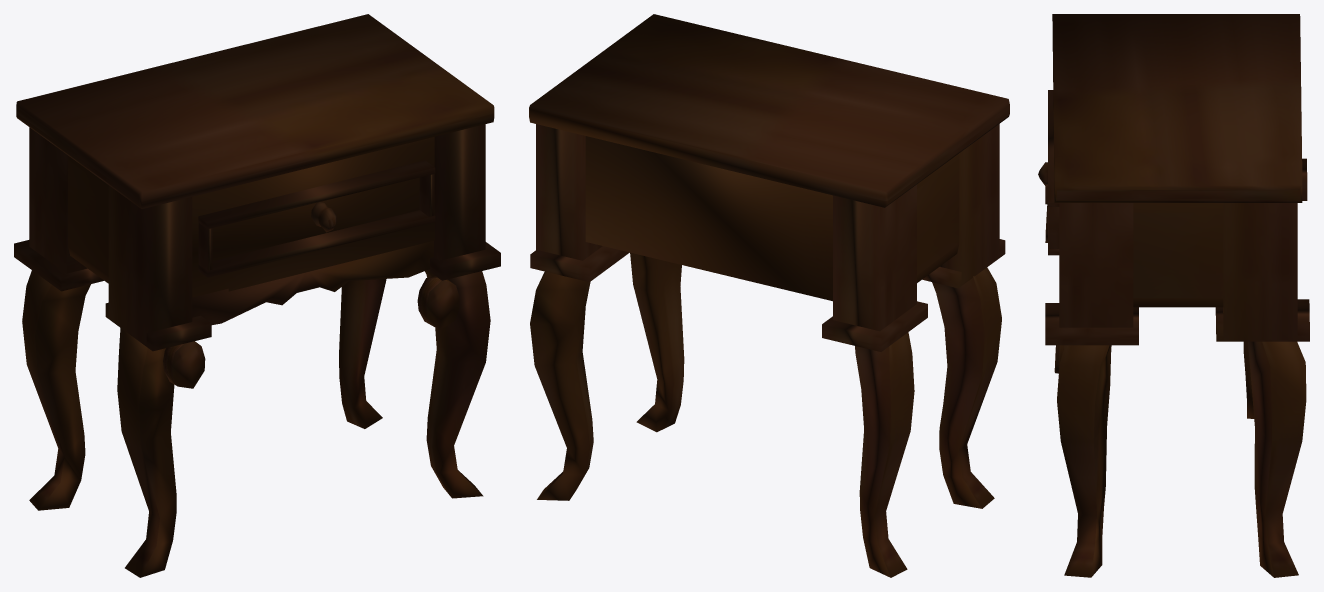
File: NightTableWatlas.fbx
3 views of the same model, side by side, from view 1: azimuth 30°, elevation 25°; view 2: azimuth 150°, elevation 25°; view 3: azimuth 270°, elevation 25° (orthographic).
Visible parts, largest first — view 1: pasted__pasted__pasted__pasted__pCube5; view 2: pasted__pasted__pasted__pasted__pCube5; view 3: pasted__pasted__pasted__pasted__pCube5.
Boxes of the visible parts, x1,y1,x2,y2 form: pasted__pasted__pasted__pasted__pCube5: [14, 14, 500, 577]; pasted__pasted__pasted__pasted__pCube5: [529, 14, 1009, 577]; pasted__pasted__pasted__pasted__pCube5: [1038, 14, 1309, 577].
Bounding box in the file's own units: 108 × 111 × 69.97.
1 material, 1 textured.
